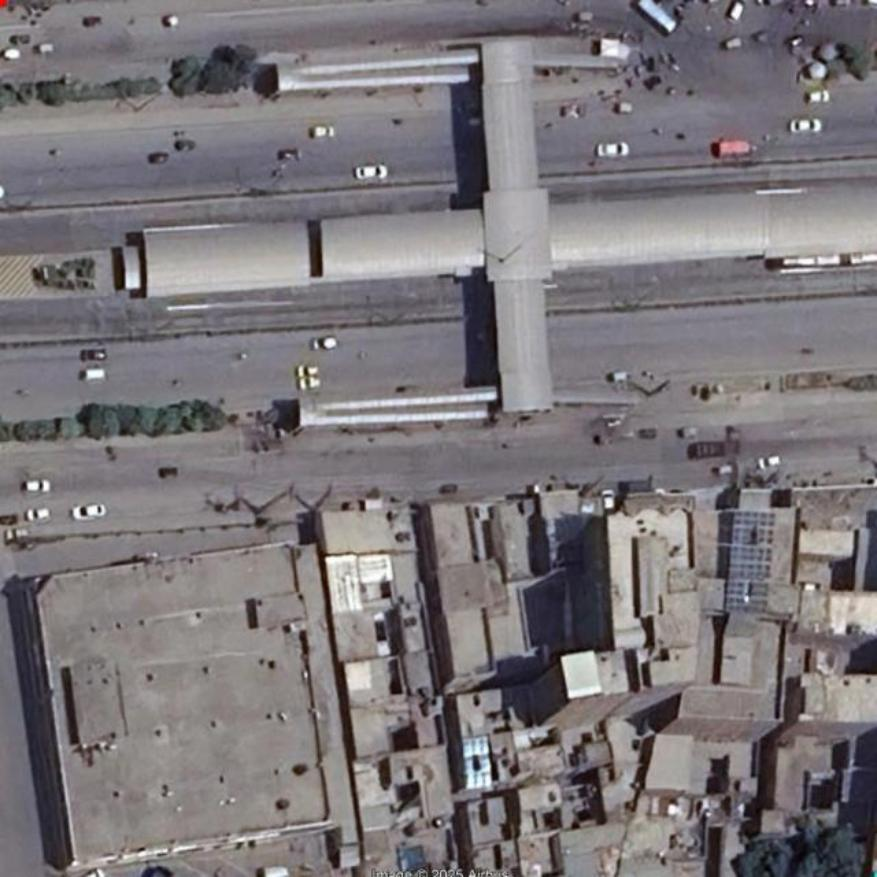Solarpanel: (726, 512, 777, 610)
